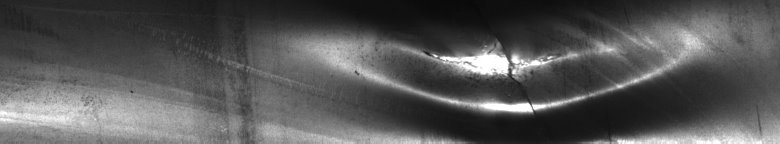ke: (355, 36, 680, 136)
